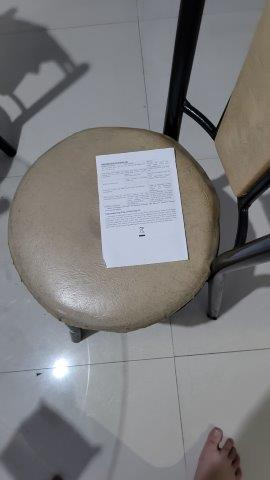kertas: (96, 145, 189, 268)
